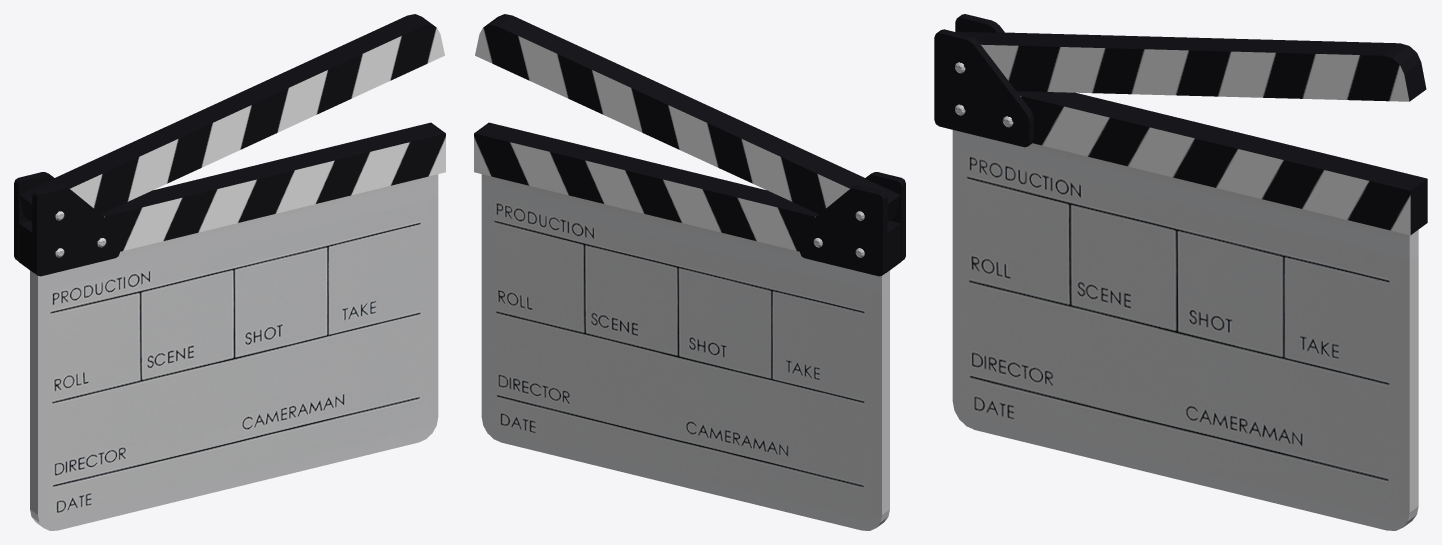
The model's file is Slate.gltf.
The picture shows the model from 3 angles, left to right: view 1: azimuth 30°, elevation 25°; view 2: azimuth 150°, elevation 25°; view 3: azimuth 330°, elevation 25°; orthographic projection. The views are drawn at different scales.
Parts seen in each view (by area): view 1: Cube.001; view 2: Cube.001; view 3: Cube.001.
Boxes of the visible parts, <box> form: Cube.001: <box>14,14,445,530</box>; Cube.001: <box>474,14,905,530</box>; Cube.001: <box>934,14,1427,530</box>.
Size of the model in its own units: 8.42 by 8.16 by 0.8987.
1 material, 1 textured.
